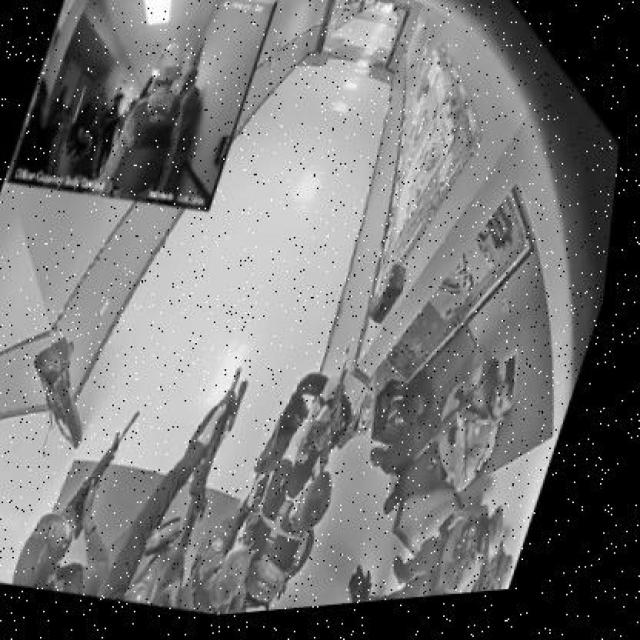weapon: (166, 367, 248, 550), (61, 409, 141, 540), (412, 362, 497, 462), (312, 362, 351, 472), (434, 516, 458, 538)
